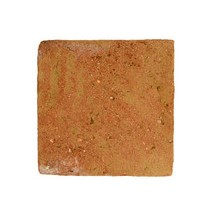brick: (38, 40, 173, 176)
